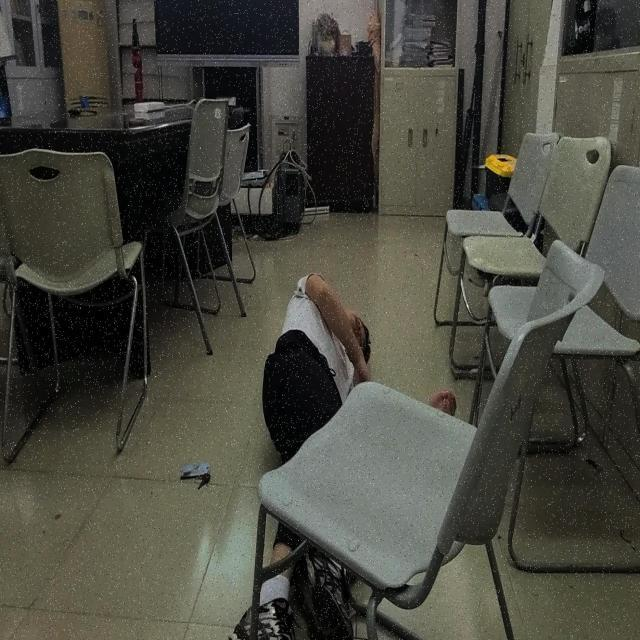fall: (229, 266, 459, 640)
